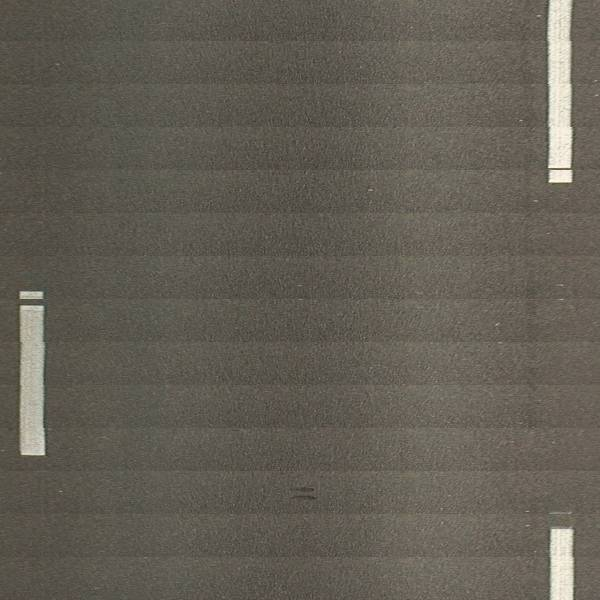road_damage: (290, 483, 318, 506)
